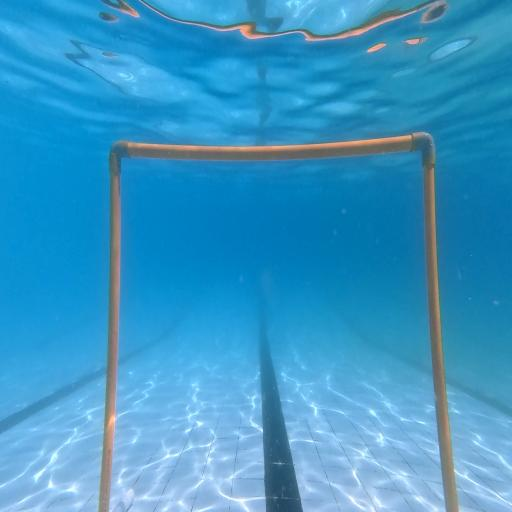gate: (97, 131, 459, 512)
